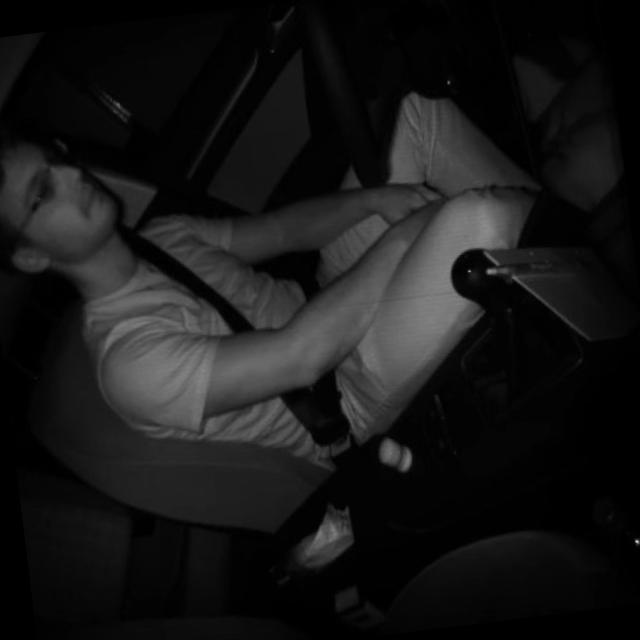pen: (483, 252, 594, 282)
